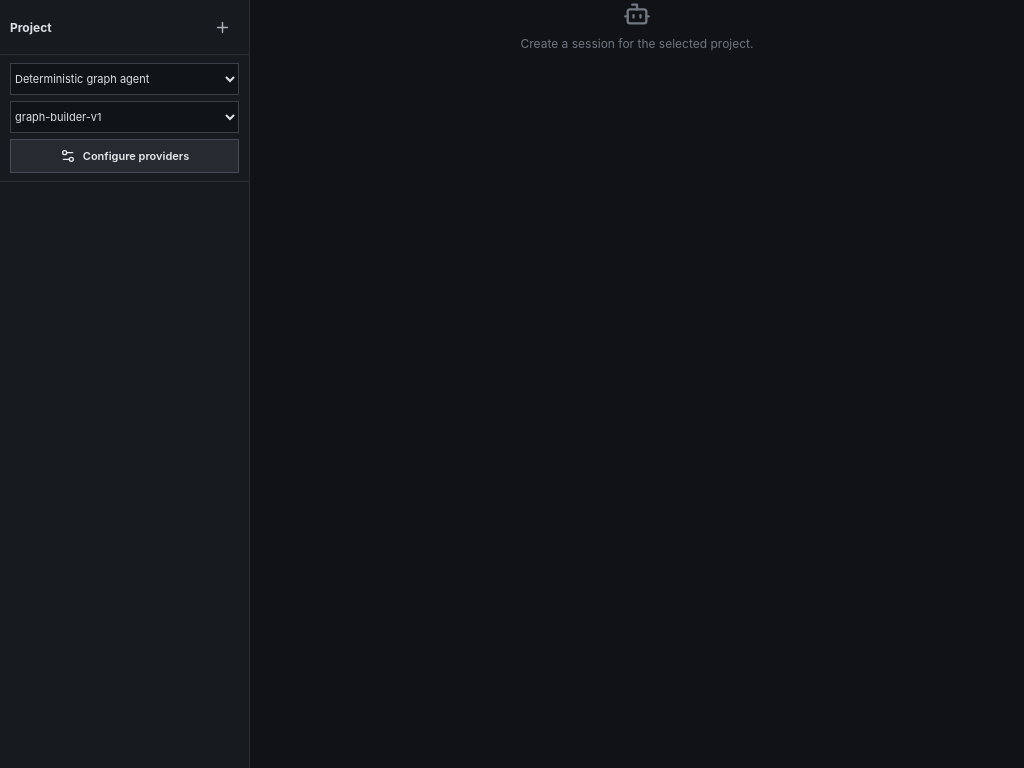
Test case: cancels an active run from the workspace
Click the button named "New agent session": (222, 27) [205,10,239,44]
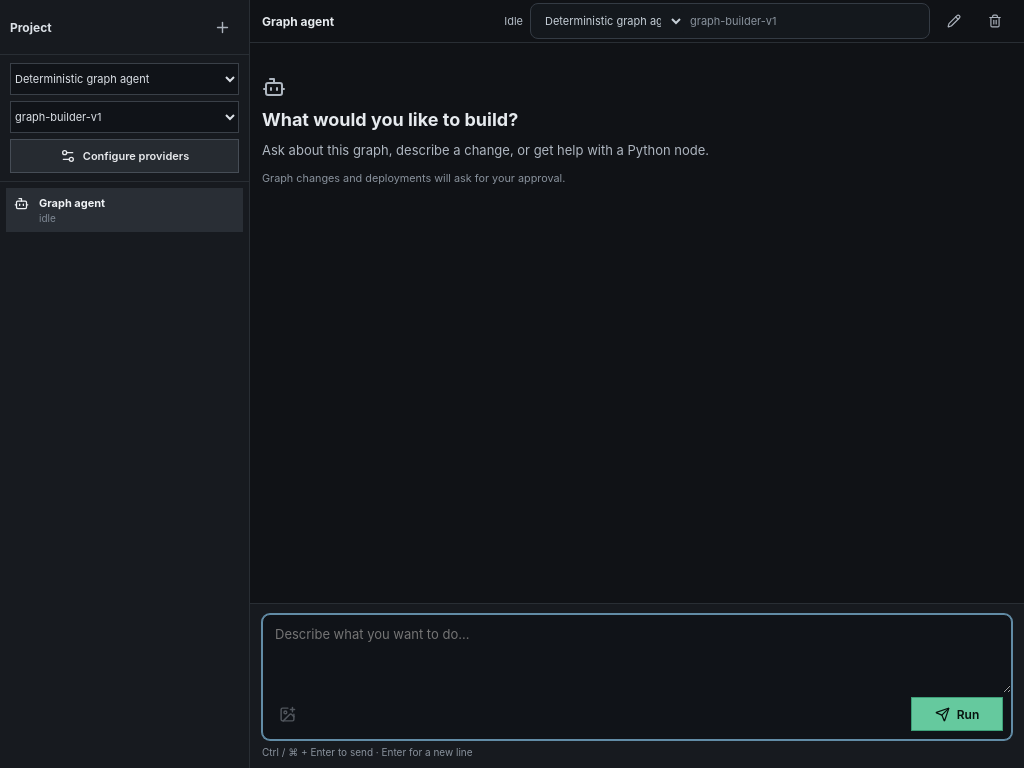
In the text box named "Agent prompt": (637, 654) [263,614,1011,693], type "Inspect graph"
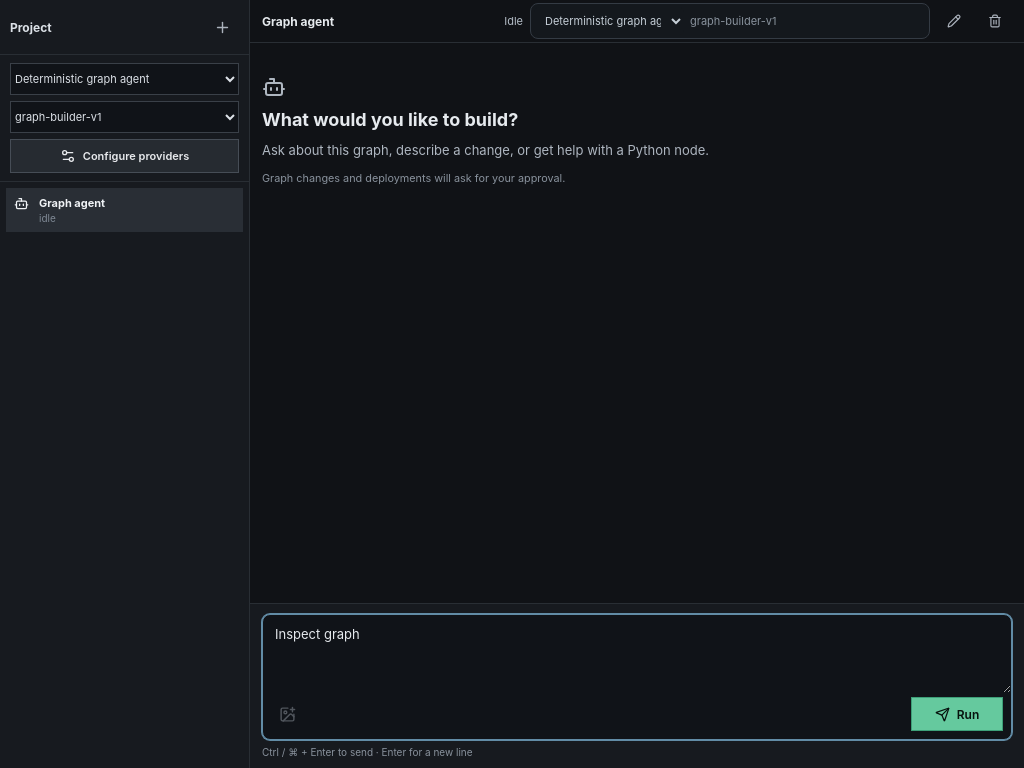
Click the button "Run": (957, 714) [911,697,1003,731]
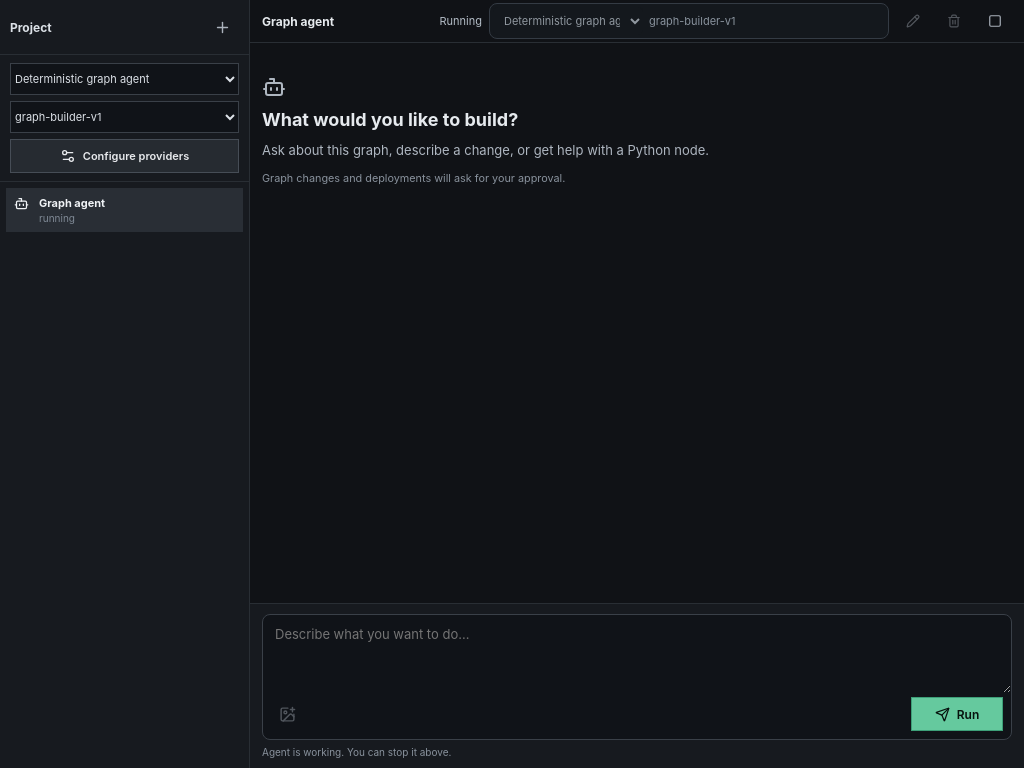
Click the button named "Cancel agent run": (995, 21) [978,4,1012,38]
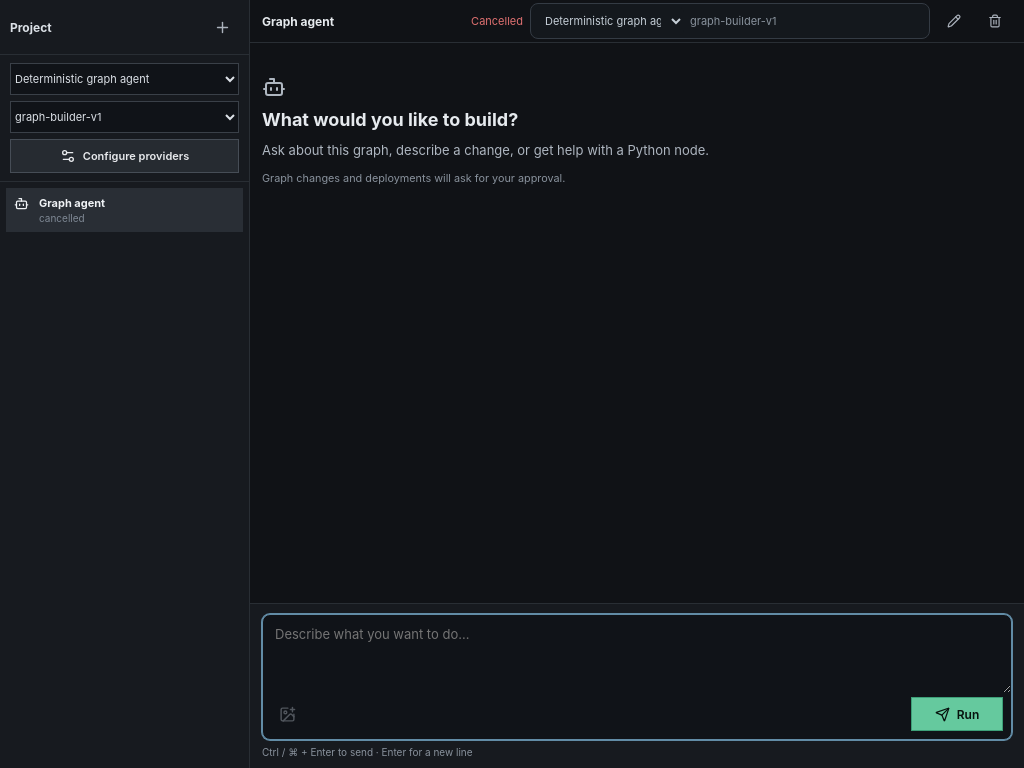
Now the text "cancelled" in the row of "graph-builder-v1" is shown, box [471,14,523,28]
